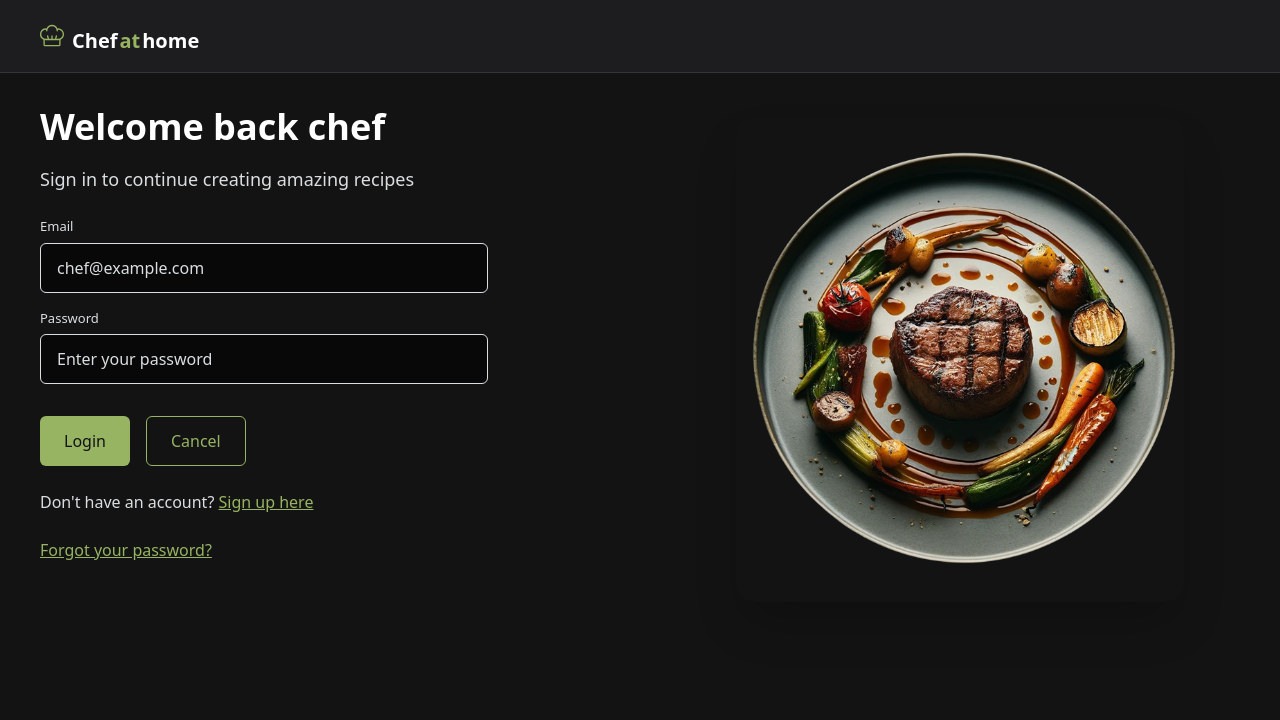
Autenticación › Login › debería mostrar error con credenciales inválidas
Type "invalid@email.com" into the field with test id "email-input".
click(264, 268); type("invalid@email.com")  # box [40,243,488,293]
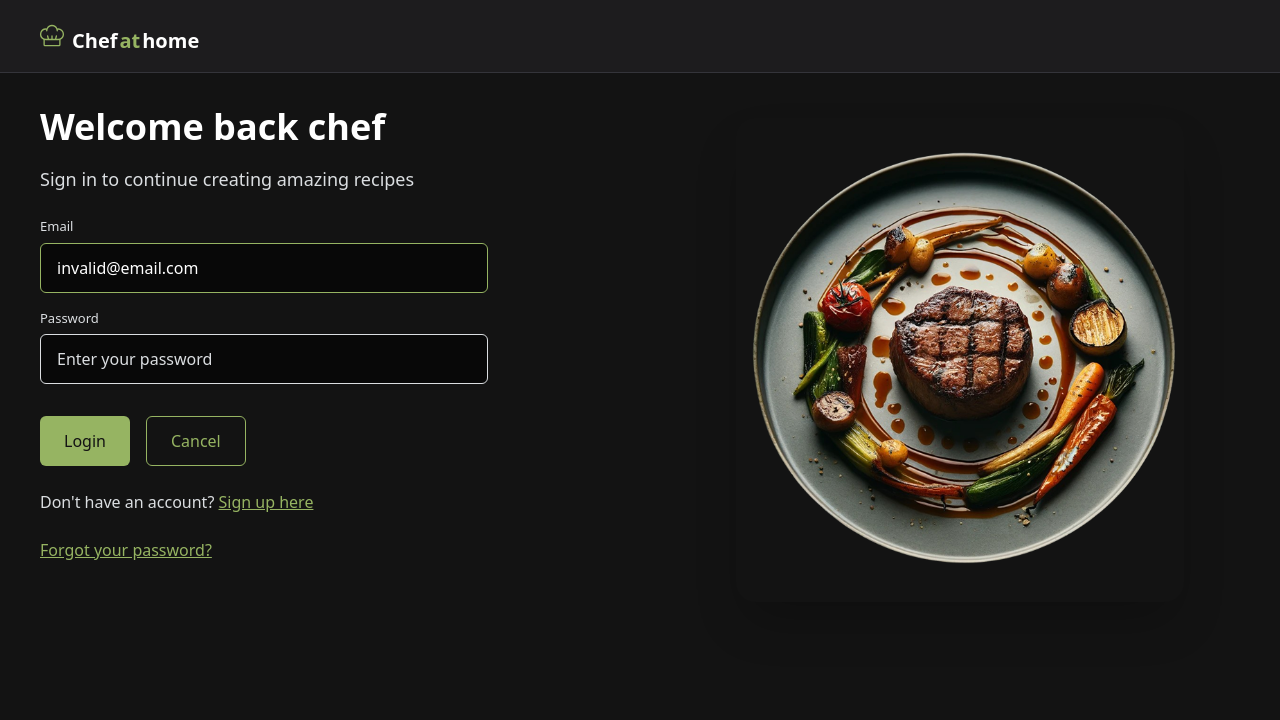
Type "wrongpassword" into the password field with test id "password-input".
click(264, 359); type("wrongpassword")  # box [40,334,488,384]
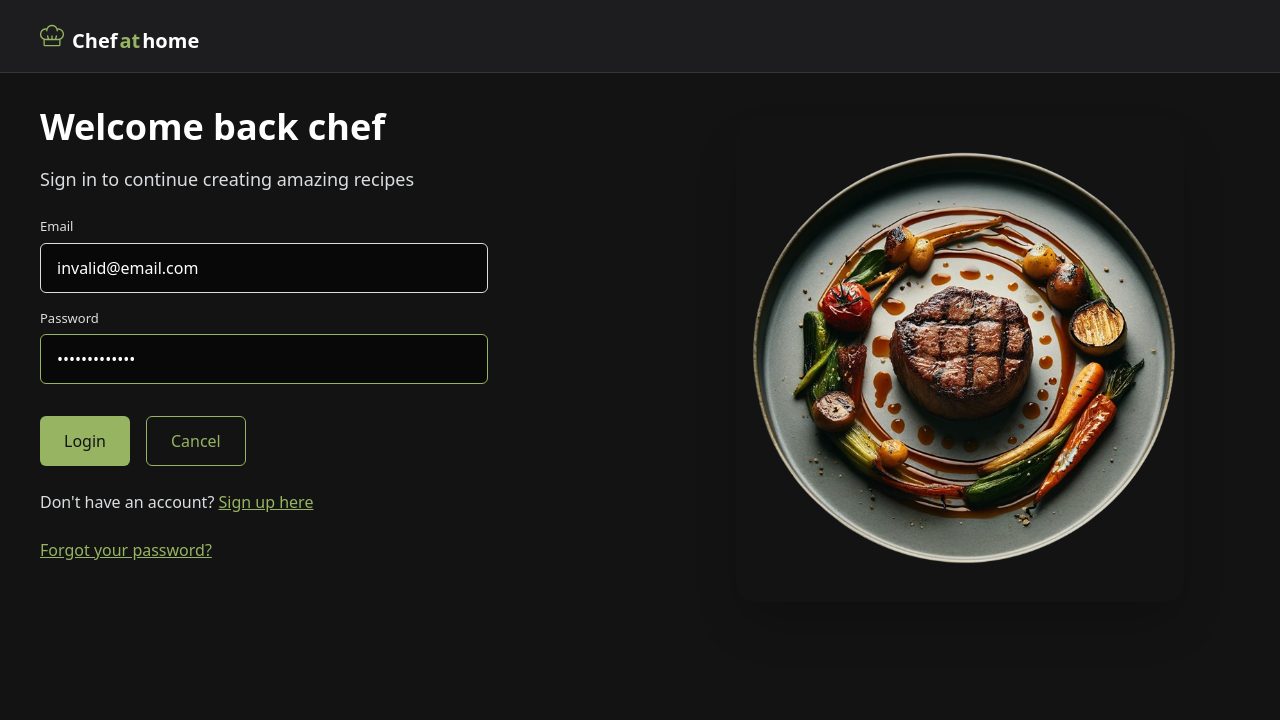
Click the button with test id "login-button".
click(85, 441)  # box [40,416,130,466]
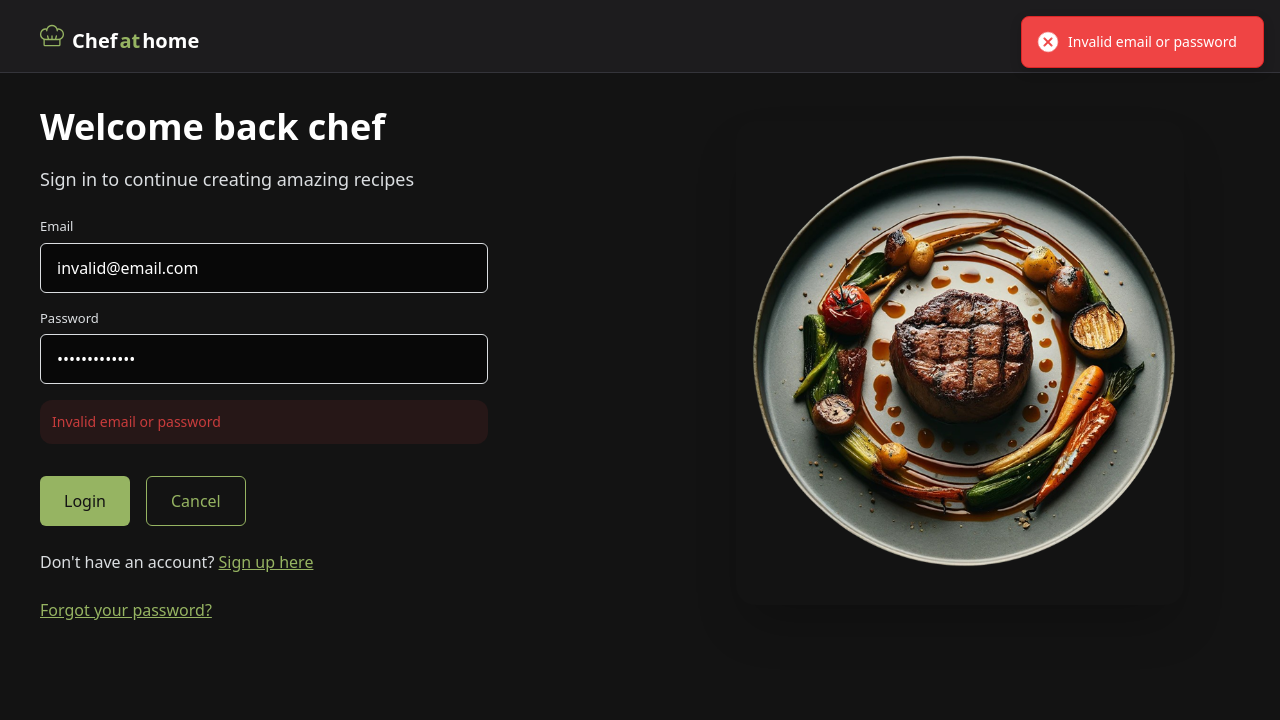
expect the text "Invalid email or password" is shown: met, box [40,400,488,444]
